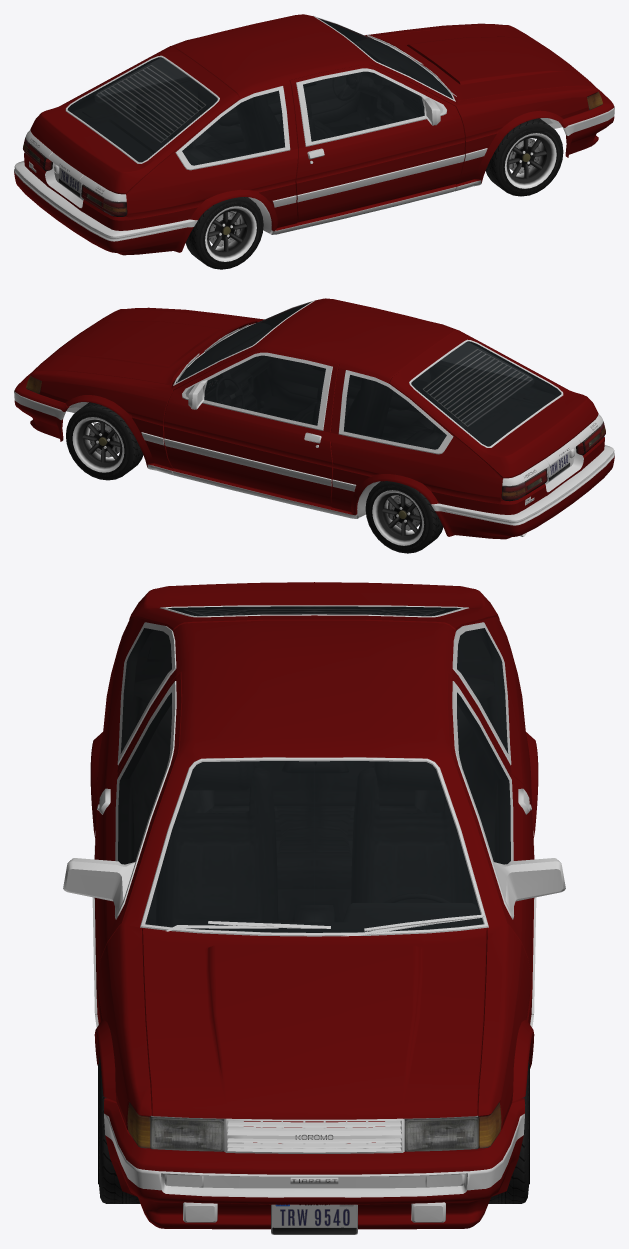
3 views of the same model, one above another, from view 1: azimuth 30°, elevation 25°; view 2: azimuth 150°, elevation 25°; view 3: azimuth 270°, elevation 25° (orthographic). The views are drawn at different scales.
Visible parts, largest first — view 1: TiaraGT83_Body, TiaraGT83_Interior, TiaraGT83_Hood, TiaraGT83_Bottom, TiaraGT83_Trunkdoor_Glass, TiaraGT83_Trunkdoor, TiaraGT83_Glass, TiaraGT83_Glass_Passenger, TiaraGT83_WheelTuner_FR, TiaraGT83_WheelTuner_RR, TiaraGT83_Bumper_rear_TrimB_Shell, TiaraGT83_Bumper_rear_TrimB (+6 smaller); view 2: TiaraGT83_Body, TiaraGT83_Interior, TiaraGT83_Hood, TiaraGT83_Bottom, TiaraGT83_Trunkdoor_Glass, TiaraGT83_Trunkdoor, TiaraGT83_Glass, TiaraGT83_Glass_Driver, TiaraGT83_WheelTuner_FL, TiaraGT83_WheelTuner_RL, TiaraGT83_Bumper_rear_TrimB_Shell, TiaraGT83_Bumper_rear_TrimB (+6 smaller); view 3: TiaraGT83_Body, TiaraGT83_Interior, TiaraGT83_Hood, TiaraGT83_Windshield, TiaraGT83_Bottom, TiaraGT83_Bumper_FrontB, TiaraGT83_Trunkdoor, TiaraGT83_Bumper_FrontB_inner, TiaraGT83_Glass, TiaraGT83_Headlight_Glass, TiaraGT83_Glass_Driver, TiaraGT83_Glass_Passenger (+8 smaller).
Boxes of the visible parts, bbox=[...] form: TiaraGT83_Body: bbox=[24, 14, 598, 231]; TiaraGT83_Interior: bbox=[68, 20, 452, 165]; TiaraGT83_Hood: bbox=[375, 25, 595, 100]; TiaraGT83_Bottom: bbox=[25, 16, 562, 234]; TiaraGT83_Trunkdoor_Glass: bbox=[67, 57, 217, 162]; TiaraGT83_Trunkdoor: bbox=[30, 46, 239, 194]; TiaraGT83_Glass: bbox=[95, 58, 284, 165]; TiaraGT83_Glass_Passenger: bbox=[303, 71, 424, 141]; TiaraGT83_WheelTuner_FR: bbox=[485, 118, 563, 196]; TiaraGT83_WheelTuner_RR: bbox=[185, 197, 263, 269]; TiaraGT83_Bumper_rear_TrimB_Shell: bbox=[14, 172, 193, 255]; TiaraGT83_Bumper_rear_TrimB: bbox=[14, 161, 197, 241]; TiaraGT83_Body: bbox=[30, 298, 604, 515]; TiaraGT83_Interior: bbox=[176, 304, 560, 449]; TiaraGT83_Hood: bbox=[33, 309, 256, 384]; TiaraGT83_Bottom: bbox=[66, 300, 603, 536]; TiaraGT83_Trunkdoor_Glass: bbox=[411, 341, 561, 446]; TiaraGT83_Trunkdoor: bbox=[389, 330, 598, 478]; TiaraGT83_Glass: bbox=[344, 342, 533, 449]; TiaraGT83_Glass_Driver: bbox=[204, 355, 325, 425]; TiaraGT83_WheelTuner_FL: bbox=[66, 402, 143, 480]; TiaraGT83_WheelTuner_RL: bbox=[365, 481, 443, 553]; TiaraGT83_Bumper_rear_TrimB_Shell: bbox=[435, 456, 614, 539]; TiaraGT83_Bumper_rear_TrimB: bbox=[431, 445, 614, 525]; TiaraGT83_Body: bbox=[90, 616, 538, 1143]; TiaraGT83_Interior: bbox=[118, 612, 510, 932]; TiaraGT83_Hood: bbox=[142, 928, 486, 1119]; TiaraGT83_Windshield: bbox=[145, 761, 483, 932]; TiaraGT83_Bottom: bbox=[63, 622, 565, 1153]; TiaraGT83_Bumper_FrontB: bbox=[104, 1098, 524, 1229]; TiaraGT83_Trunkdoor: bbox=[129, 582, 499, 630]; TiaraGT83_Bumper_FrontB_inner: bbox=[104, 1113, 524, 1222]; TiaraGT83_Glass: bbox=[120, 628, 508, 753]; TiaraGT83_Headlight_Glass: bbox=[127, 1102, 501, 1151]; TiaraGT83_Glass_Driver: bbox=[457, 692, 510, 864]; TiaraGT83_Glass_Passenger: bbox=[118, 692, 171, 864].
Size of the model in its own units: 4.17 by 1.22 by 1.74.
